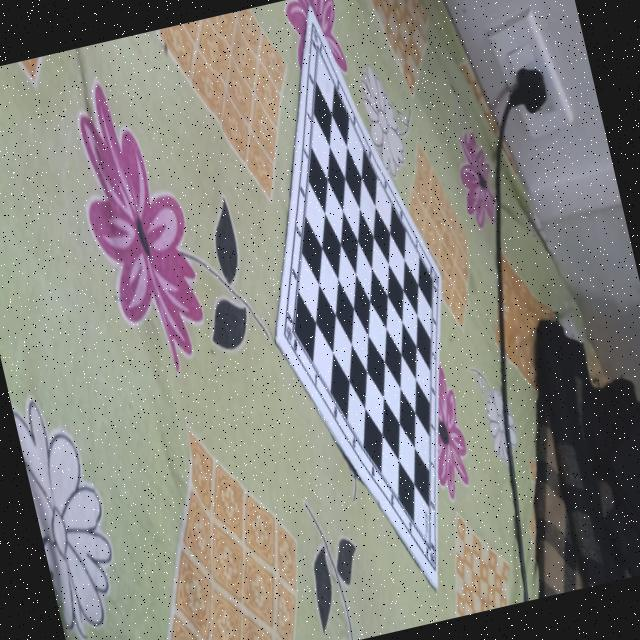corners: (425, 572, 443, 603), (267, 323, 285, 352), (432, 262, 448, 290), (300, 0, 319, 18)
